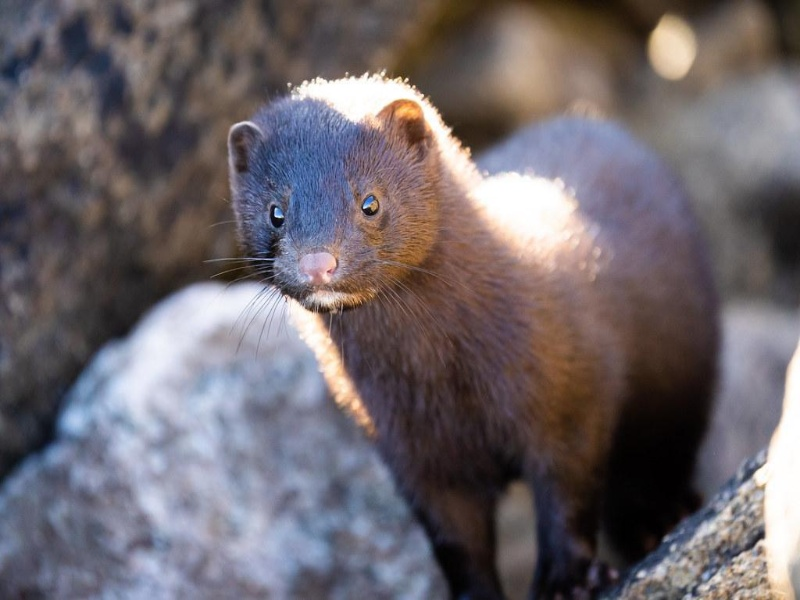minkish: (219, 68, 725, 584)
